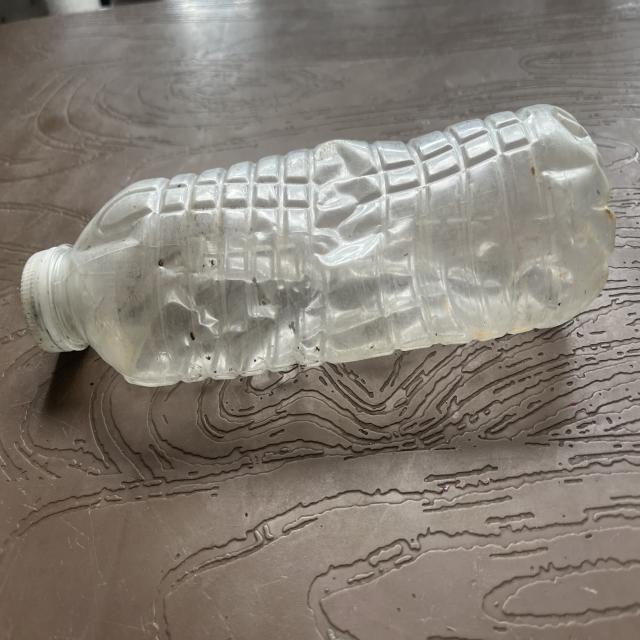REJECT: (44, 113, 626, 392)
